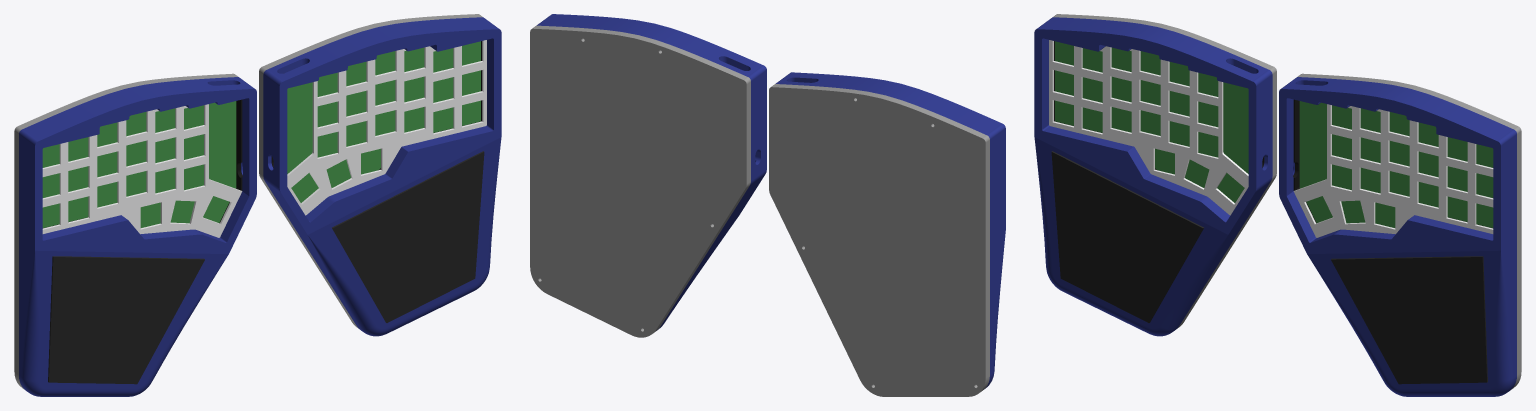
The model's file is Corne Case with wrist rest v10.fbx.
3 views of the same model, side by side, from view 1: azimuth 30°, elevation 25°; view 2: azimuth 150°, elevation 25°; view 3: azimuth 330°, elevation 25° (orthographic). The views are drawn at different scales.
Parts seen in each view (by area): view 1: case and wrist rest, case and wrist rest (2), padding, padding (2), PCB, oled plate v2 (2), PCB (2), oled plate v2, weight, weight (2), Insert; view 2: weight, weight (2), case and wrist rest, case and wrist rest (2); view 3: case and wrist rest (2), case and wrist rest, padding (2), padding, PCB (2), oled plate v2, PCB, oled plate v2 (2), weight (2), weight, Insert (2).
Part boxes in pixels (x1,y1,x2,y2): case and wrist rest: (19,77,256,396); case and wrist rest (2): (263,17,501,336); padding: (48,256,204,384); padding (2): (332,151,484,322); PCB: (42,101,236,227); oled plate v2 (2): (287,40,486,215); PCB (2): (287,41,480,202); oled plate v2: (42,104,242,237); weight: (14,73,238,389); weight (2): (259,14,482,328); Insert: (43,99,242,228); weight: (769,84,989,396); weight (2): (530,25,750,337); case and wrist rest: (775,72,1005,389); case and wrist rest (2): (536,14,766,330); case and wrist rest (2): (1279,77,1516,396); case and wrist rest: (1034,17,1272,336); padding (2): (1331,256,1487,384); padding: (1051,151,1203,322); PCB (2): (1299,101,1493,227); oled plate v2: (1049,40,1248,215); PCB: (1055,41,1248,202); oled plate v2 (2): (1293,104,1493,237); weight (2): (1297,73,1521,389); weight: (1053,14,1276,328); Insert (2): (1293,99,1492,228).
Size of the model in its own units: 307 by 192 by 24.18.
